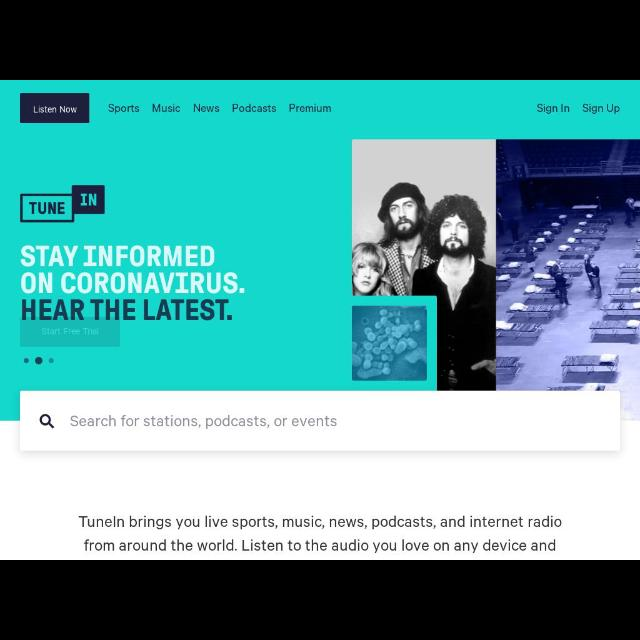icon: (40, 414, 56, 428)
image: (497, 140, 639, 420), (352, 140, 496, 390), (352, 306, 428, 382), (21, 185, 105, 223)
input: (21, 392, 622, 451)
multitab: (108, 104, 332, 115)
pageindicator: (23, 357, 54, 365)
text: (78, 515, 562, 553), (21, 245, 245, 321), (70, 415, 338, 429), (41, 328, 100, 337), (232, 103, 276, 113), (289, 103, 331, 113), (582, 104, 620, 115), (32, 105, 78, 114), (537, 104, 571, 115), (108, 104, 140, 114), (151, 103, 181, 113), (194, 103, 220, 113)
textbutton: (21, 316, 121, 348), (20, 94, 90, 124)
